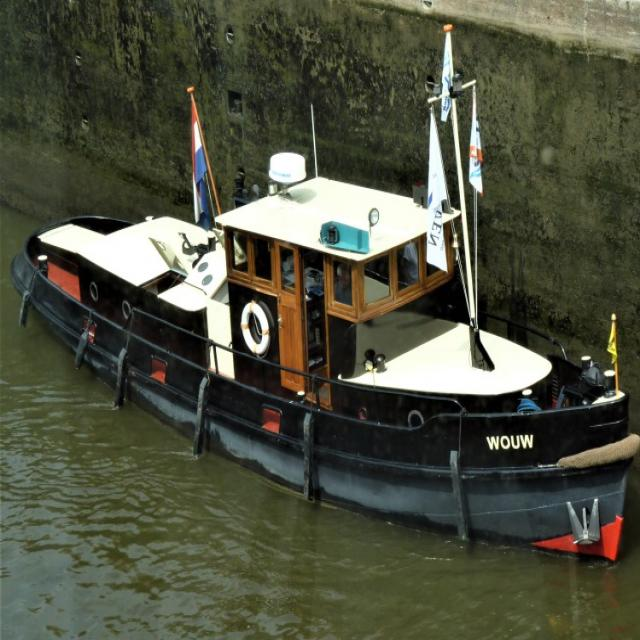tugboat: (7, 20, 640, 574)
